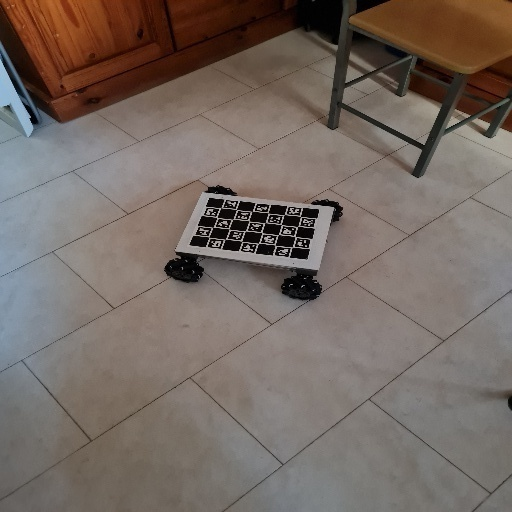Omniwheel: (163, 186, 343, 302)
